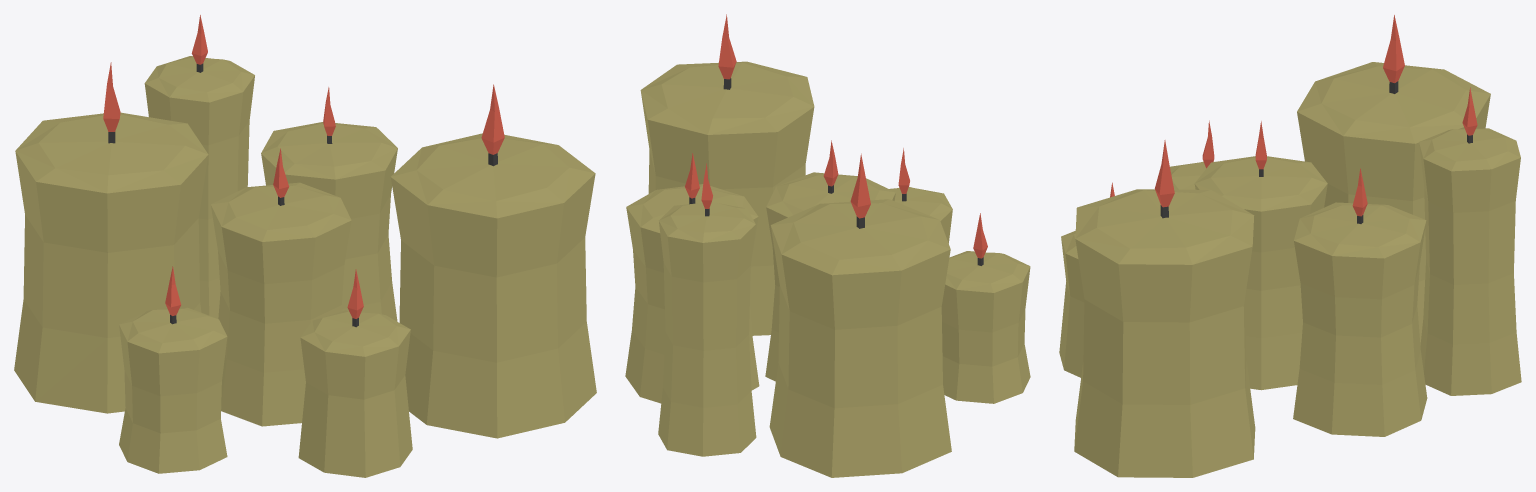
File: Candles_1.glb
3 renders of one model, left to right at view 1: azimuth 30°, elevation 25°; view 2: azimuth 150°, elevation 25°; view 3: azimuth 270°, elevation 25°, orthographic. The views are drawn at different scales.
Visible parts, largest first — view 1: Candles_1; view 2: Candles_1; view 3: Candles_1.
Part boxes in pixels (left/top/right/bottom): Candles_1: left=14, top=15, right=596, bottom=477; Candles_1: left=625, top=14, right=1030, bottom=477; Candles_1: left=1059, top=15, right=1521, bottom=477.
Size of the model in its own units: 0.881 by 0.6067 by 0.8436.
